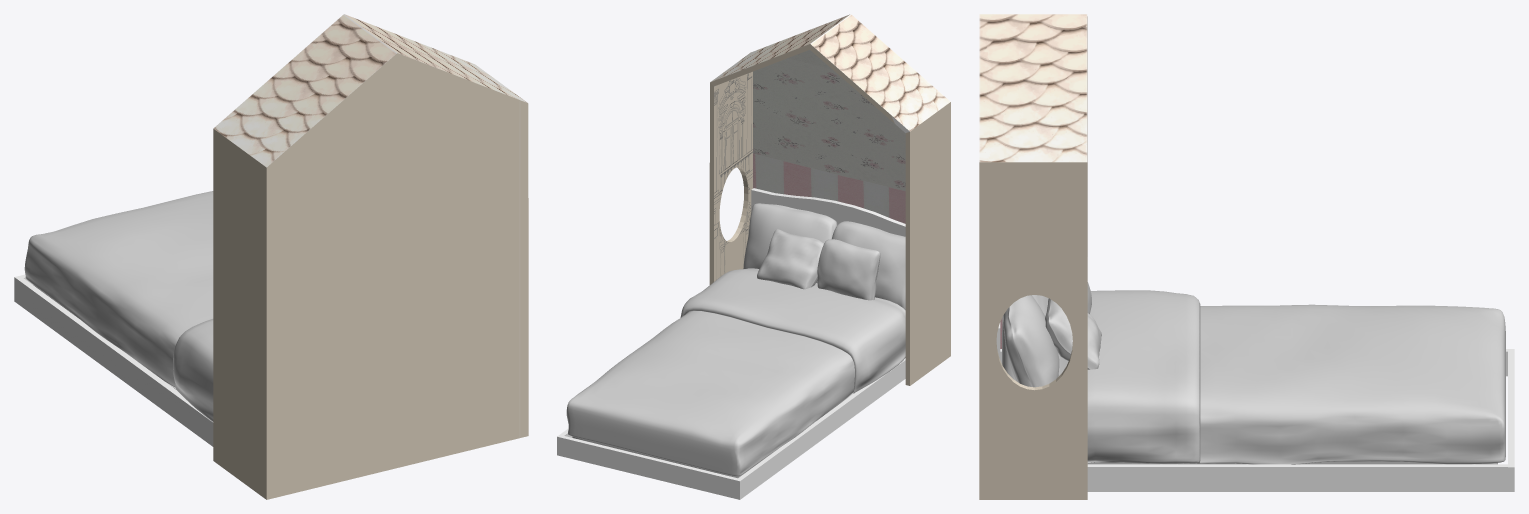
The model's file is tête-lit_visuel-test.glb.
3 views of the same model, side by side, from view 1: azimuth 30°, elevation 25°; view 2: azimuth 150°, elevation 25°; view 3: azimuth 270°, elevation 25° (orthographic). The views are drawn at different scales.
Parts seen in each view (by area): view 1: extérieur, lit, somier; view 2: lit, interrieur, extérieur, somier; view 3: lit, extérieur, somier.
Boxes of the visible parts, <box> form: extérieur: <box>213,14,528,499</box>; lit: <box>24,191,213,421</box>; somier: <box>14,274,213,446</box>; lit: <box>566,203,905,478</box>; interrieur: <box>714,50,905,281</box>; extérieur: <box>709,14,950,385</box>; somier: <box>557,188,905,499</box>; lit: <box>1002,282,1505,464</box>; extérieur: <box>979,14,1087,499</box>; somier: <box>996,322,1514,491</box>.
Bounding box in the file's own units: 0.9908 × 1.5 × 1.73.
4 materials, 2 textured.
